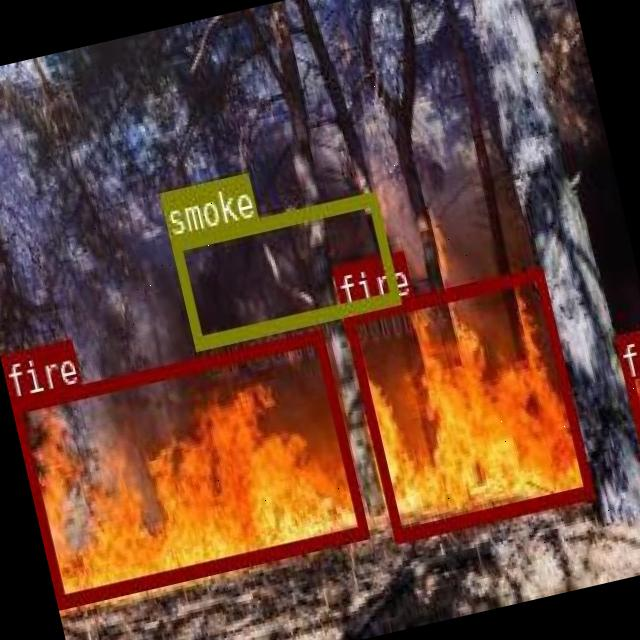fire: (10, 327, 368, 608), (341, 266, 591, 540), (614, 326, 640, 477)
smoke: (168, 189, 399, 349)
